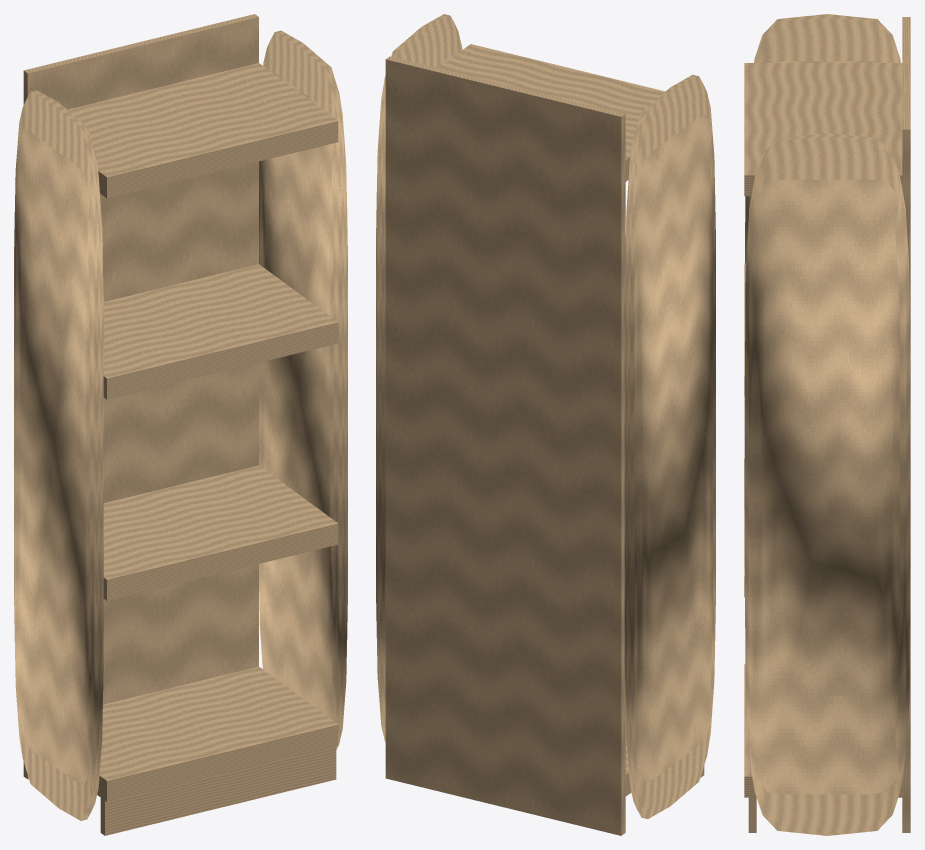
3 renders of one model, left to right at view 1: azimuth 30°, elevation 25°; view 2: azimuth 150°, elevation 25°; view 3: azimuth 270°, elevation 25°, orthographic. The views are drawn at different scales.
Visible parts, largest first — view 1: 1 left_side, 3 back_panel, 2 right_side, 8 top_shelf, 5 bottom_shelf, 6 lower_middle_shelf, 7 upper_middle_shelf, 4 bottom_plinth; view 2: 3 back_panel, 1 left_side, 2 right_side, 8 top_shelf; view 3: 2 right_side, 8 top_shelf, 1 left_side, 3 back_panel, 5 bottom_shelf.
Boxes of the visible parts, x1,y1,x2,y2 form: 1 left_side: (14, 90, 103, 820); 3 back_panel: (23, 14, 258, 779); 2 right_side: (259, 30, 347, 749); 8 top_shelf: (67, 63, 338, 198); 5 bottom_shelf: (97, 666, 338, 801); 6 lower_middle_shelf: (103, 465, 338, 600); 7 upper_middle_shelf: (103, 264, 338, 399); 4 bottom_plinth: (100, 746, 336, 835); 3 back_panel: (385, 56, 625, 835); 1 left_side: (624, 74, 715, 818); 2 right_side: (376, 14, 462, 741); 8 top_shelf: (438, 44, 665, 181); 2 right_side: (744, 132, 910, 835); 8 top_shelf: (744, 63, 902, 196); 1 left_side: (744, 14, 900, 399); 3 back_panel: (902, 17, 910, 832); 5 bottom_shelf: (744, 664, 902, 797).
Size of the model in its own units: 0.4064 by 1.07 by 0.2286.
Materials: 1 (1 with a texture image).
